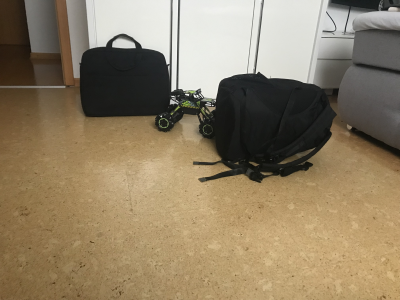remote control car: (154, 84, 217, 138)
